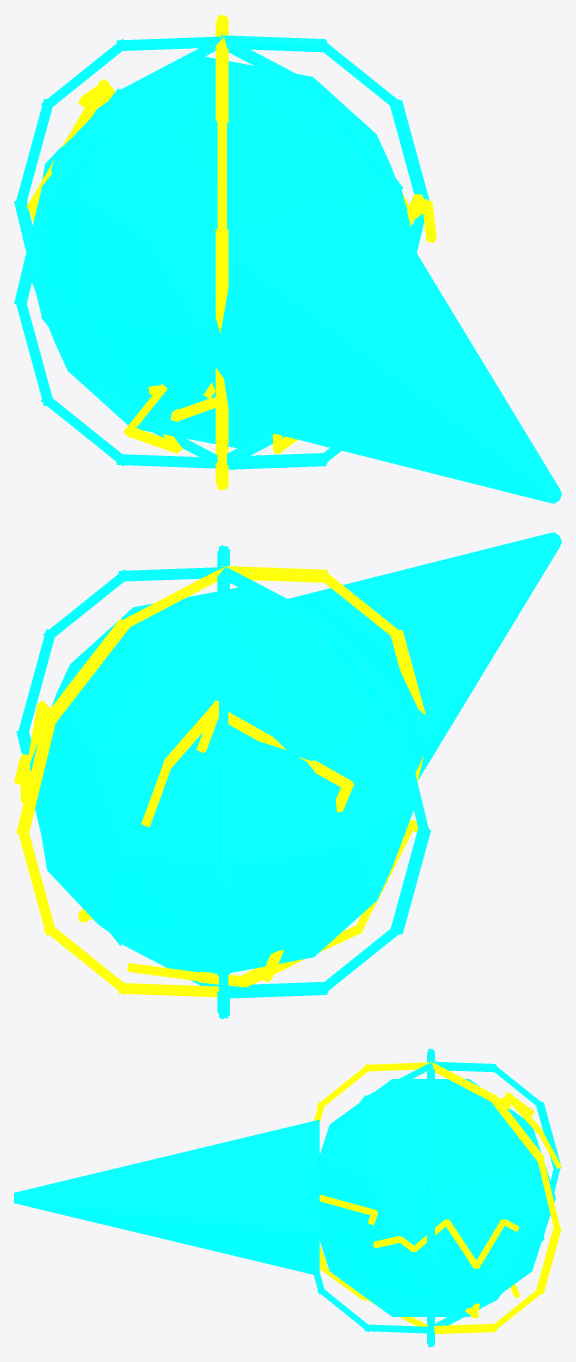
File: Proj_EMPPulse.fbx
3 renders of one model, top to bottom at view 1: azimuth 30°, elevation 25°; view 2: azimuth 150°, elevation 25°; view 3: azimuth 270°, elevation 25°, orthographic. The views are drawn at different scales.
Visible parts, largest first — view 1: EMP_Shell, EMP_Trail, EMP_Ring0, EMP_Ring2, EMP_Ring1, EMP_Crackle4, EMP_Crackle3, EMP_Crackle0; view 2: EMP_Shell, EMP_Trail, EMP_Ring0, EMP_Ring1, EMP_Ring2, EMP_Crackle3, EMP_Crackle4, EMP_Crackle0, EMP_Crackle2; view 3: EMP_Shell, EMP_Trail, EMP_Ring2, EMP_Ring1, EMP_Ring0, EMP_Crackle2, EMP_Crackle0, EMP_Crackle1, EMP_Crackle4.
Part boxes in pixels (bbox=[...]): EMP_Shell: bbox=[32, 56, 416, 449]; EMP_Trail: bbox=[196, 197, 561, 503]; EMP_Ring0: bbox=[14, 35, 429, 468]; EMP_Ring2: bbox=[14, 35, 416, 469]; EMP_Ring1: bbox=[215, 14, 228, 490]; EMP_Crackle4: bbox=[27, 85, 297, 453]; EMP_Crackle3: bbox=[123, 384, 182, 453]; EMP_Crackle0: bbox=[98, 79, 215, 421]; EMP_Shell: bbox=[30, 587, 413, 973]; EMP_Trail: bbox=[288, 532, 561, 780]; EMP_Ring0: bbox=[16, 565, 430, 998]; EMP_Ring1: bbox=[16, 566, 425, 997]; EMP_Ring2: bbox=[217, 545, 229, 1019]; EMP_Crackle3: bbox=[127, 819, 417, 987]; EMP_Crackle4: bbox=[196, 708, 354, 982]; EMP_Crackle0: bbox=[78, 700, 218, 922]; EMP_Crackle2: bbox=[14, 700, 50, 802]; EMP_Shell: bbox=[319, 1079, 555, 1316]; EMP_Trail: bbox=[14, 1119, 319, 1274]; EMP_Ring2: bbox=[304, 1061, 561, 1333]; EMP_Ring1: bbox=[314, 1061, 561, 1334]; EMP_Ring0: bbox=[427, 1048, 434, 1347]; EMP_Crackle2: bbox=[373, 1219, 519, 1268]; EMP_Crackle0: bbox=[319, 1092, 561, 1318]; EMP_Crackle1: bbox=[319, 1194, 377, 1225]; EMP_Crackle4: bbox=[319, 1095, 534, 1299].
Bounding box in the file's own units: 0.2163 × 0.2163 × 0.3943.
